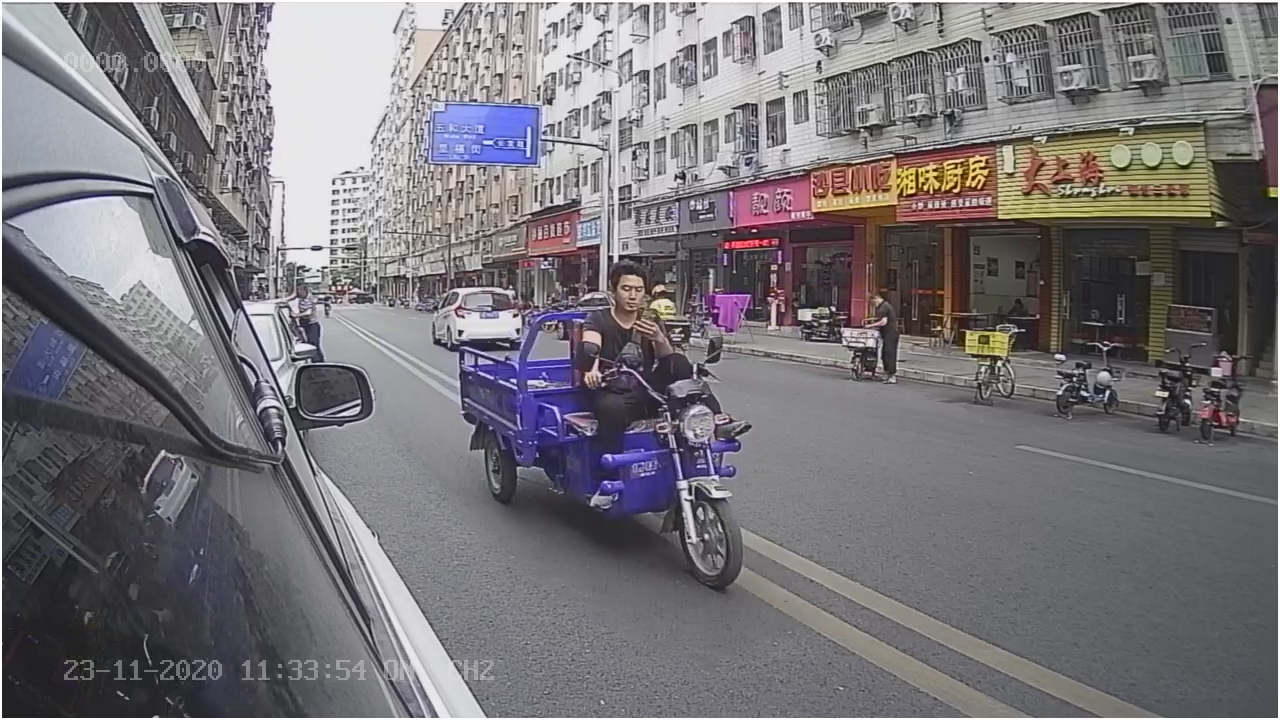person: (573, 254, 678, 386)
